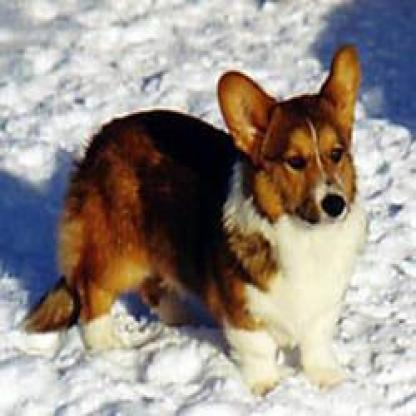Cardigan: (20, 46, 413, 388)
